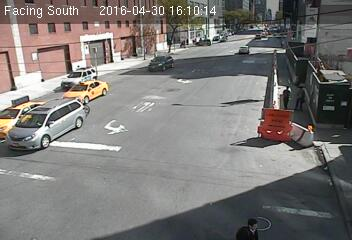neg: (164, 129, 200, 176), (102, 81, 126, 113), (132, 100, 152, 126), (228, 66, 247, 91), (168, 70, 186, 94), (182, 39, 196, 58)
pos: (289, 85, 312, 115), (276, 83, 296, 110), (239, 213, 259, 239)
